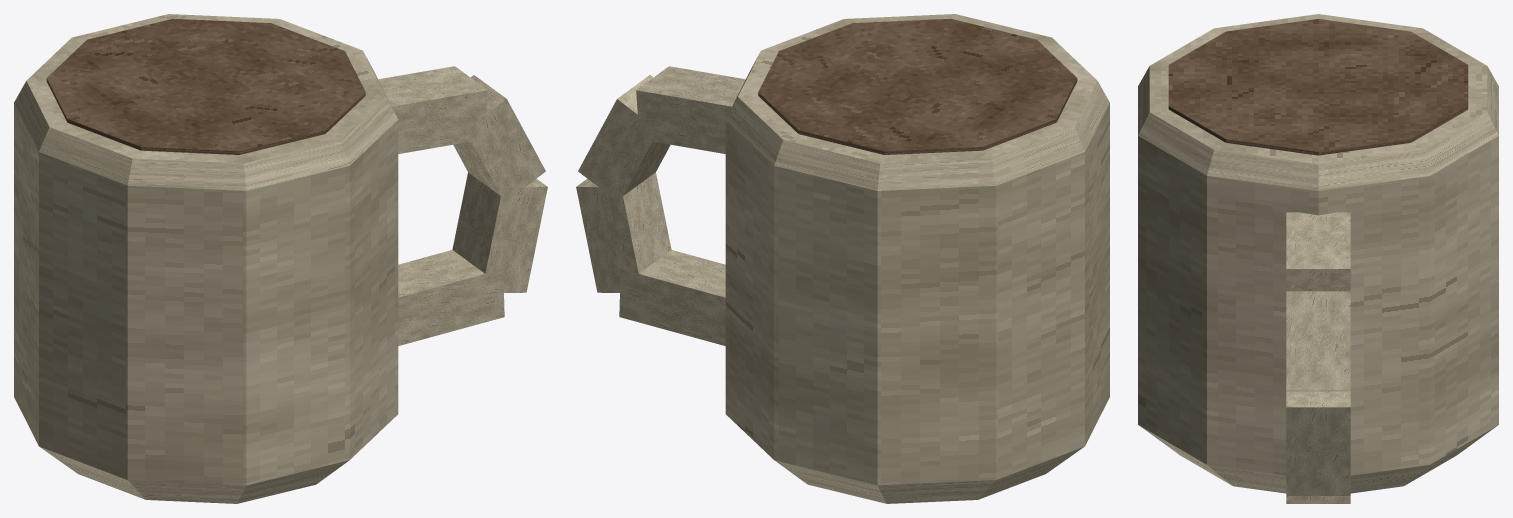
The model's file is mug.glb.
3 views of the same model, side by side, from view 1: azimuth 30°, elevation 25°; view 2: azimuth 150°, elevation 25°; view 3: azimuth 270°, elevation 25° (orthographic).
Parts seen in each view (by area): view 1: Body; view 2: Body; view 3: Body.
Part boxes in pixels (bbox=[...]): Body: bbox=[14, 14, 547, 503]; Body: bbox=[576, 14, 1109, 503]; Body: bbox=[1138, 14, 1498, 503].
Size of the model in its own units: 0.1383 by 0.096 by 0.0894.
1 material, 1 textured.
